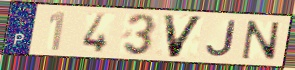1: (47, 10, 67, 52)
3: (118, 12, 161, 57)
4: (80, 12, 112, 55)
J: (204, 19, 238, 59)
N: (240, 19, 281, 62)
V: (161, 13, 207, 59)
